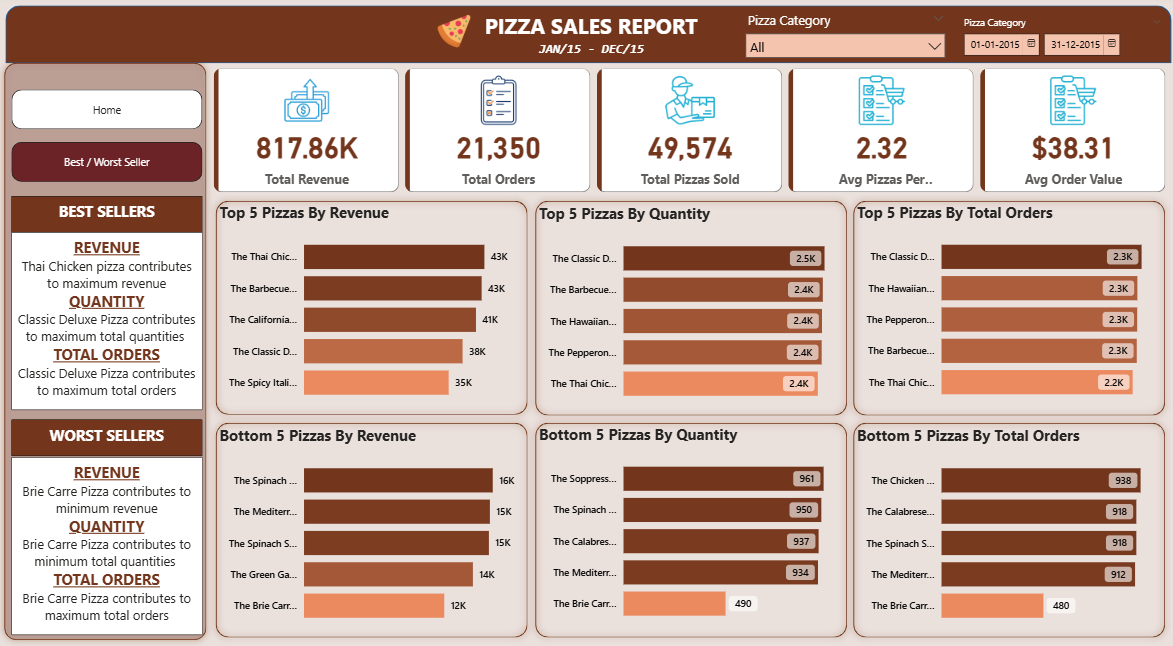

The dashboard page shown, as its layout file describes it:
{"tool":"powerbi","page":{"name":"Best / Worst Seller","canvas":[1500,820],"ordinal":1},"visuals":[{"type":"shape","box":[13.6,13.6,1466.4,72.7],"z":0},{"type":"textbox","box":[605.6,15.1,288.6,50.9],"z":1000},{"type":"textbox","box":[673.6,52.7,152.7,41.8],"z":2000},{"type":"image","box":[549,18.9,56.6,52.8],"z":3000},{"type":"shape","box":[270,250,408,285],"z":4000},{"type":"shape","box":[4,78,270,742],"z":5000},{"type":"textbox","box":[20,252,240,46],"z":6000},{"type":"textbox","box":[20,298,240,224],"z":7000},{"type":"textbox","box":[20,534,240,46],"z":8000},{"type":"textbox","box":[20,582,240,224],"z":9000},{"type":"slicer","fields":{"Values":["pizza_sales.pizza_category"]},"box":[933.8,15.1,271.7,67.9],"z":10000},{"type":"slicer","fields":{"Values":["pizza_sales.order_date"]},"box":[1205.5,20.8,273.5,67.9],"z":11000},{"type":"shape","box":[270,530,408,286],"z":12000},{"type":"shape","box":[672,250,408,286],"z":13000},{"type":"shape","box":[1072,250,408,286],"z":14000},{"type":"shape","box":[672,530,408,286],"z":15000},{"type":"shape","box":[1072,530,408,286],"z":16000},{"type":"barChart","title":"Top 5 Pizzas By Revenue","fields":{"Category":["pizza_sales.pizza_name"],"Y":["pizza_sales.Total Revenue"]},"box":[278,260,394,264],"z":17000},{"type":"barChart","title":"Top 5 Pizzas By Quantity","fields":{"Category":["pizza_sales.pizza_name"],"Y":["pizza_sales.Total Pizzas Sold"]},"box":[680,261.7,393.3,263.3],"z":18000},{"type":"barChart","title":"Bottom 5 Pizzas By Revenue","fields":{"Category":["pizza_sales.pizza_name"],"Y":["pizza_sales.Total Revenue"]},"box":[276.7,541.7,393.3,263.3],"z":19000},{"type":"barChart","title":"Bottom 5 Pizzas By Quantity","fields":{"Category":["pizza_sales.pizza_name"],"Y":["pizza_sales.Total Pizzas Sold"]},"box":[680,540,392.5,262.5],"z":20000},{"type":"barChart","title":"Top 5 Pizzas By Total Orders","fields":{"Category":["pizza_sales.pizza_name"],"Y":["pizza_sales.Total Orders"]},"box":[1080,260,393.3,263.3],"z":21000},{"type":"barChart","title":"Bottom 5 Pizzas By Total Orders","fields":{"Category":["pizza_sales.pizza_name"],"Y":["pizza_sales.Total Orders"]},"box":[1080,541.7,393.3,263.3],"z":22000},{"type":"pageNavigator","box":[20,118,240,50],"z":23000},{"type":"pageNavigator","box":[20,184,240,50],"z":24000},{"type":"cardVisual","fields":{"Data":["pizza_sales.Total Revenue","pizza_sales.Total Orders","pizza_sales.Total Pizzas Sold","pizza_sales.Avg Pizzas Per Order","pizza_sales.Avg Order Value"]},"box":[269.8,86.8,1211.2,166],"z":25000}]}

Visuals, with their boxes in screenshot pixels (x1, y1, x2, y2), scaled from the page's 1500x820 canvas onto the 1173x646 screenshot:
shape: [x1=11, y1=11, x2=1157, y2=68]
textbox: [x1=474, y1=12, x2=699, y2=52]
textbox: [x1=527, y1=42, x2=646, y2=74]
image: [x1=429, y1=15, x2=474, y2=56]
shape: [x1=211, y1=197, x2=530, y2=421]
shape: [x1=3, y1=61, x2=214, y2=645]
textbox: [x1=16, y1=199, x2=203, y2=235]
textbox: [x1=16, y1=235, x2=203, y2=411]
textbox: [x1=16, y1=421, x2=203, y2=457]
textbox: [x1=16, y1=459, x2=203, y2=635]
slicer - pizza_sales.pizza_category: [x1=730, y1=12, x2=943, y2=65]
slicer - pizza_sales.order_date: [x1=943, y1=16, x2=1157, y2=70]
shape: [x1=211, y1=418, x2=530, y2=643]
shape: [x1=526, y1=197, x2=845, y2=422]
shape: [x1=838, y1=197, x2=1157, y2=422]
shape: [x1=526, y1=418, x2=845, y2=643]
shape: [x1=838, y1=418, x2=1157, y2=643]
"Top 5 Pizzas By Revenue" barChart: [x1=217, y1=205, x2=526, y2=413]
"Top 5 Pizzas By Quantity" barChart: [x1=532, y1=206, x2=839, y2=414]
"Bottom 5 Pizzas By Revenue" barChart: [x1=216, y1=427, x2=524, y2=634]
"Bottom 5 Pizzas By Quantity" barChart: [x1=532, y1=425, x2=839, y2=632]
"Top 5 Pizzas By Total Orders" barChart: [x1=845, y1=205, x2=1152, y2=412]
"Bottom 5 Pizzas By Total Orders" barChart: [x1=845, y1=427, x2=1152, y2=634]
pageNavigator: [x1=16, y1=93, x2=203, y2=132]
pageNavigator: [x1=16, y1=145, x2=203, y2=184]
cardVisual - pizza_sales.Total Revenue x pizza_sales.Total Orders: [x1=211, y1=68, x2=1158, y2=199]
